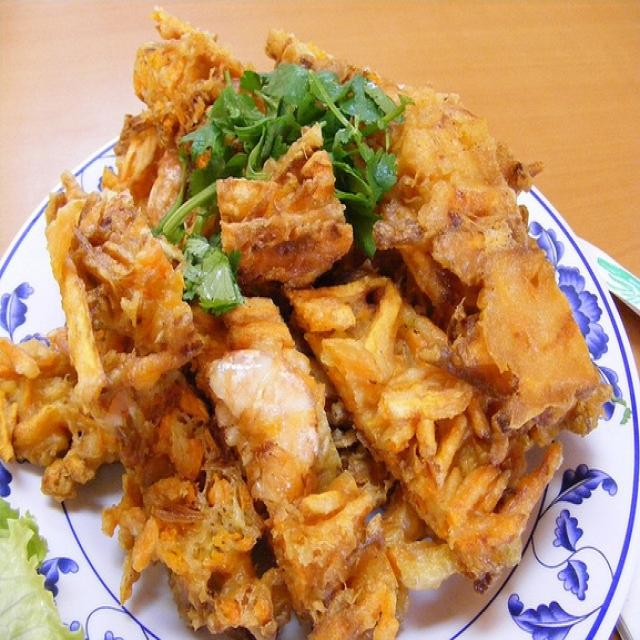炸货点心: (28, 24, 626, 631)
熟制海鲜: (28, 24, 626, 631)
